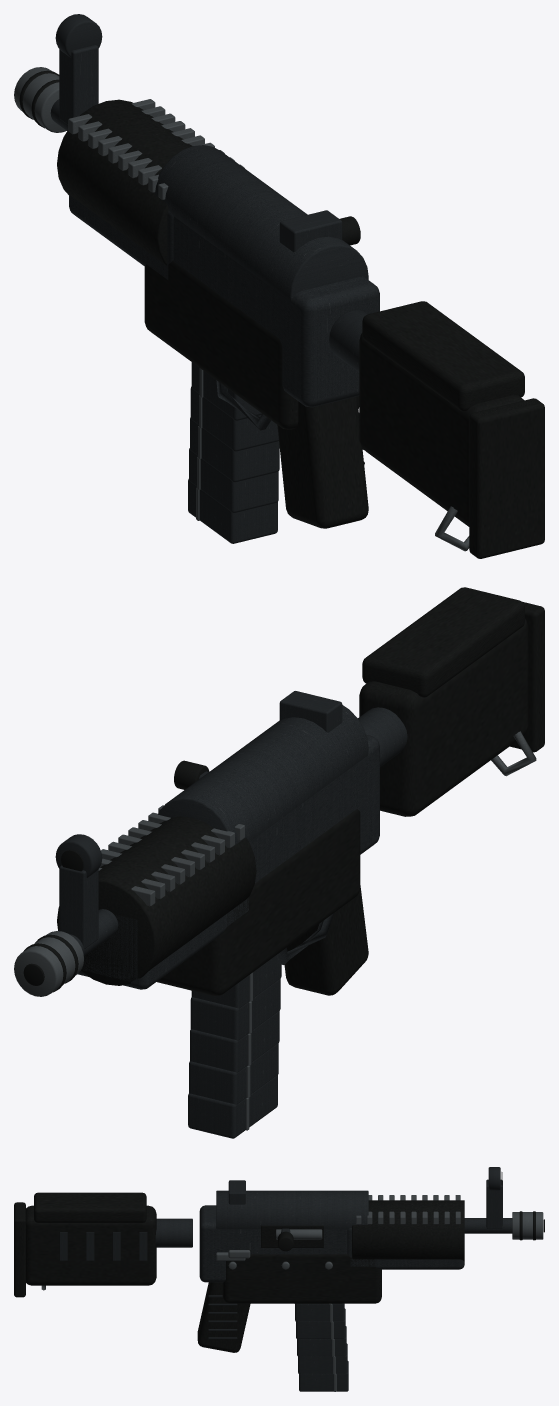
File: ump45.glb
3 views of the same model, one above another, from view 1: azimuth 30°, elevation 25°; view 2: azimuth 150°, elevation 25°; view 3: azimuth 270°, elevation 25° (orthographic). The views are drawn at different scales.
Visible parts, largest first — view 1: weapon_Weapon finish / Polymer, weapon_Polymer, weapon_Weapon finish / Parkerized steel, magazine_Parkerized steel, weapon_Parkerized steel, weapon_Machined edges, magazine_Machined edges; view 2: weapon_Weapon finish / Polymer, weapon_Polymer, weapon_Weapon finish / Parkerized steel, magazine_Parkerized steel, weapon_Parkerized steel, weapon_Machined edges, magazine_Machined edges, bolt_Polymer; view 3: weapon_Weapon finish / Polymer, weapon_Polymer, weapon_Weapon finish / Parkerized steel, weapon_Parkerized steel, magazine_Parkerized steel, weapon_Machined edges, bolt_Machined edges.
Boxes of the visible parts, <box> form: weapon_Weapon finish / Polymer: <box>144,260,524,526</box>; weapon_Polymer: <box>19,70,544,558</box>; weapon_Weapon finish / Parkerized steel: <box>69,145,379,407</box>; magazine_Parkerized steel: <box>188,362,279,543</box>; weapon_Parkerized steel: <box>50,14,367,464</box>; weapon_Machined edges: <box>14,67,469,551</box>; magazine_Machined edges: <box>196,368,203,520</box>; weapon_Weapon finish / Polymer: <box>157,587,528,995</box>; weapon_Polymer: <box>23,601,544,995</box>; weapon_Weapon finish / Parkerized steel: <box>78,705,379,989</box>; magazine_Parkerized steel: <box>188,955,281,1138</box>; weapon_Parkerized steel: <box>55,691,407,964</box>; weapon_Machined edges: <box>14,731,536,996</box>; magazine_Machined edges: <box>246,972,252,1130</box>; bolt_Polymer: <box>174,760,209,789</box>; weapon_Weapon finish / Polymer: <box>26,1192,381,1303</box>; weapon_Polymer: <box>14,1172,544,1352</box>; weapon_Weapon finish / Parkerized steel: <box>199,1190,464,1282</box>; weapon_Parkerized steel: <box>59,1167,512,1339</box>; magazine_Parkerized steel: <box>295,1303,348,1391</box>; weapon_Machined edges: <box>41,1195,543,1290</box>; bolt_Machined edges: <box>276,1229,322,1239</box>.
Bounding box in the file's own units: 0.1329 × 0.3625 × 0.801.
5 materials, 5 textured.
